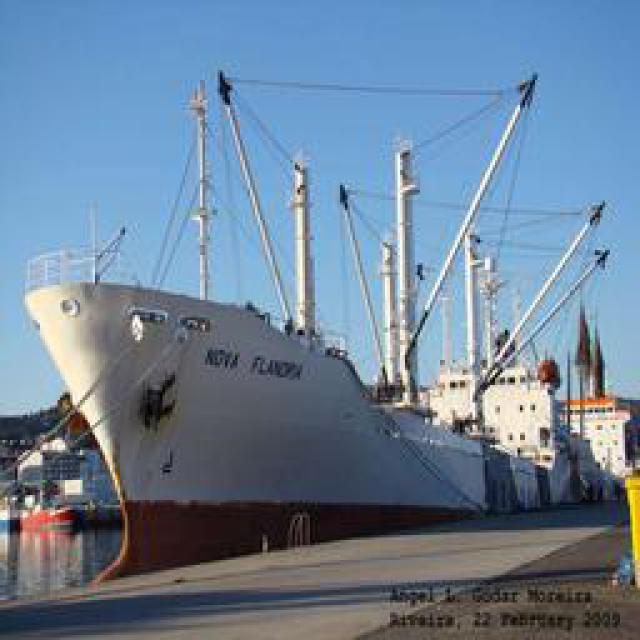Ship: (24, 67, 619, 570)
